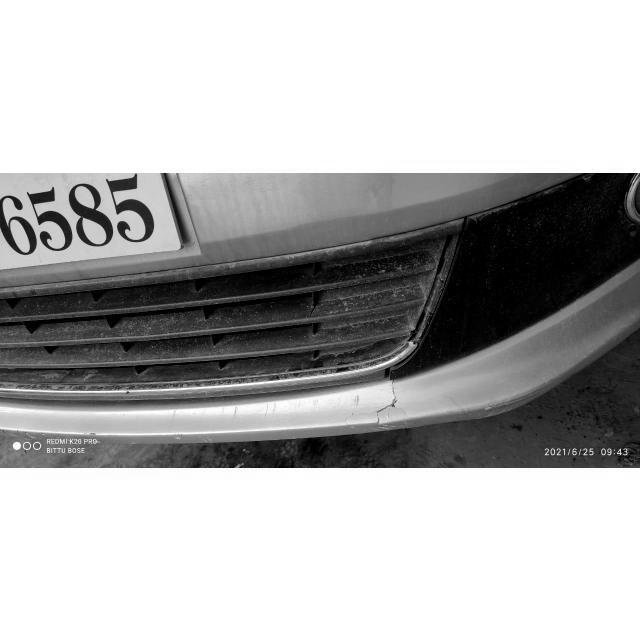front-bumper-dent: (99, 174, 557, 445)
